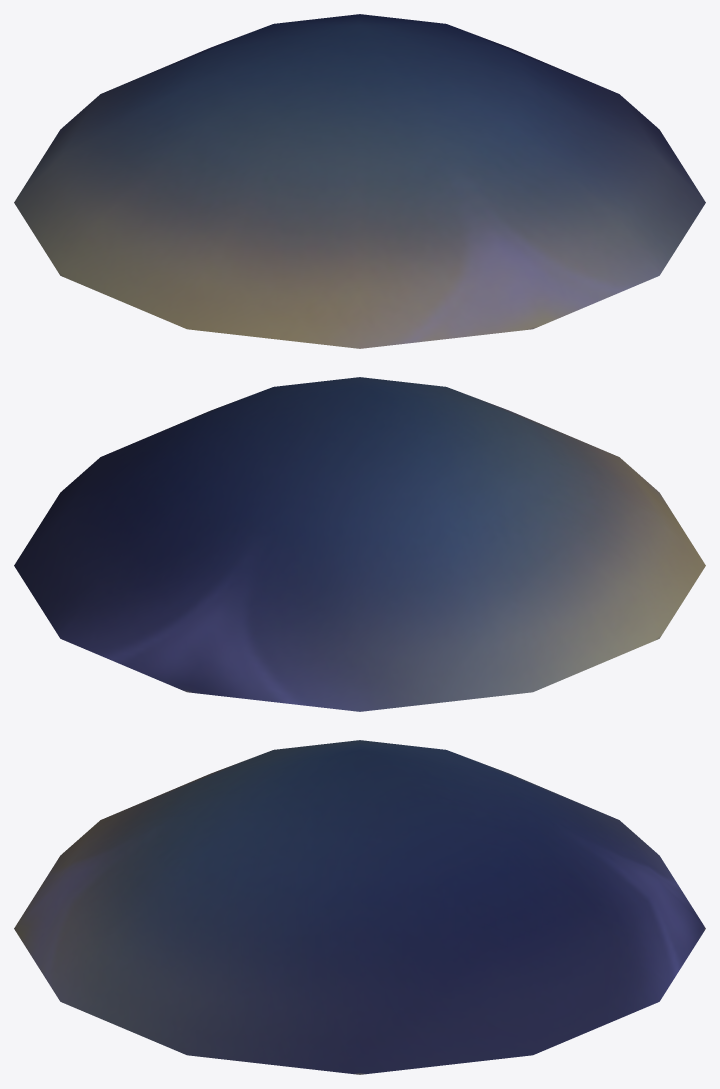
Rendered from mp_dusk.obj.
The picture shows the model from 3 angles, top to bottom: view 1: azimuth 30°, elevation 25°; view 2: azimuth 150°, elevation 25°; view 3: azimuth 270°, elevation 25°; orthographic projection.
Visible parts, largest first — view 1: __unnamed; view 2: __unnamed; view 3: __unnamed.
Part boxes in pixels (left/top/right/bottom): __unnamed: left=14, top=14, right=705, bottom=348; __unnamed: left=14, top=377, right=705, bottom=711; __unnamed: left=14, top=740, right=705, bottom=1074.
Bounding box in the file's own units: 1.11e+07 × 3143677 × 1.11e+07.
